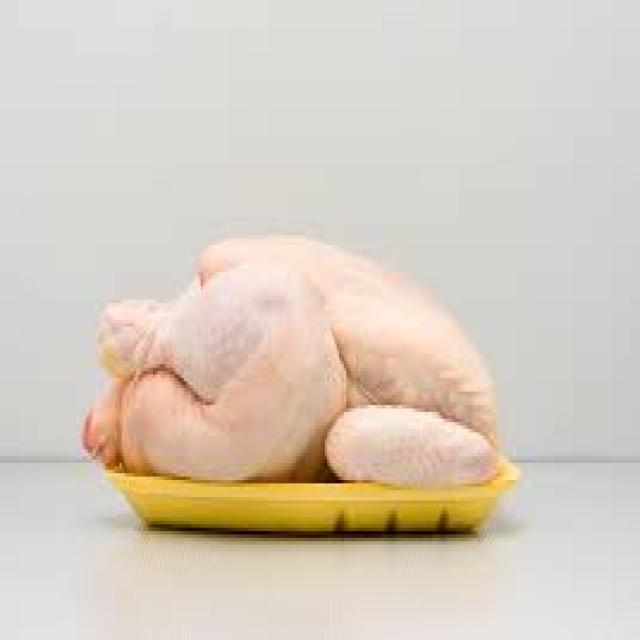Chicken: (81, 235, 502, 488)
